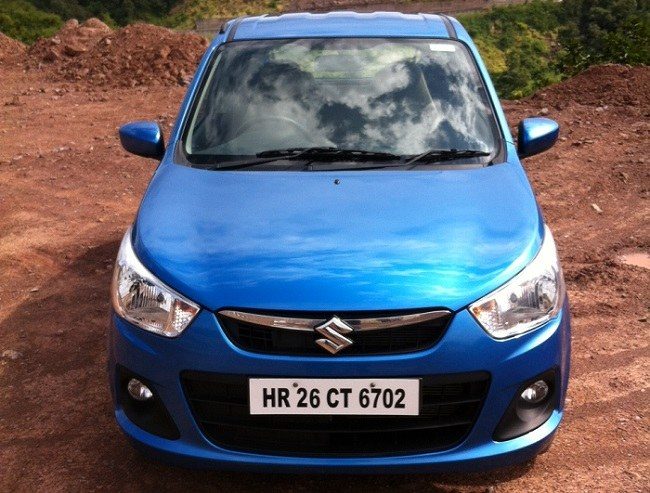number_plate: (232, 370, 426, 429)
